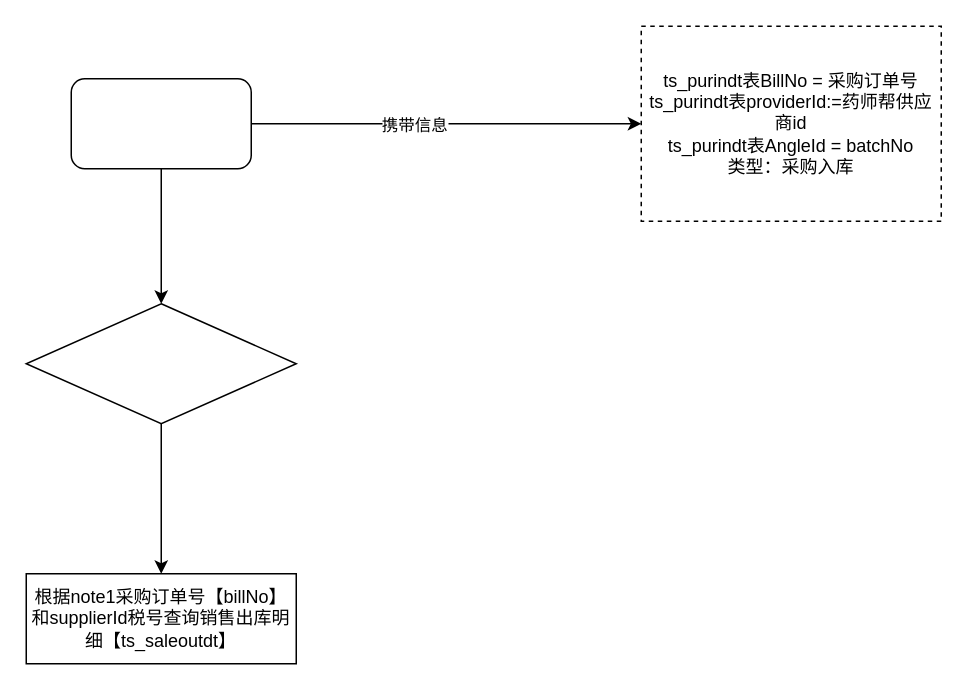
The diagram is 968 pixels wide and 690 high, and some of its shapes have lost their labels. The centre of each missing label's shape, as x and y in pixels:
"supplierId供应商id判断税号是否是子公司【ts_businessdoc查找providerId】" belongs at point 160,363.
"采购入库" belongs at point 160,123.
